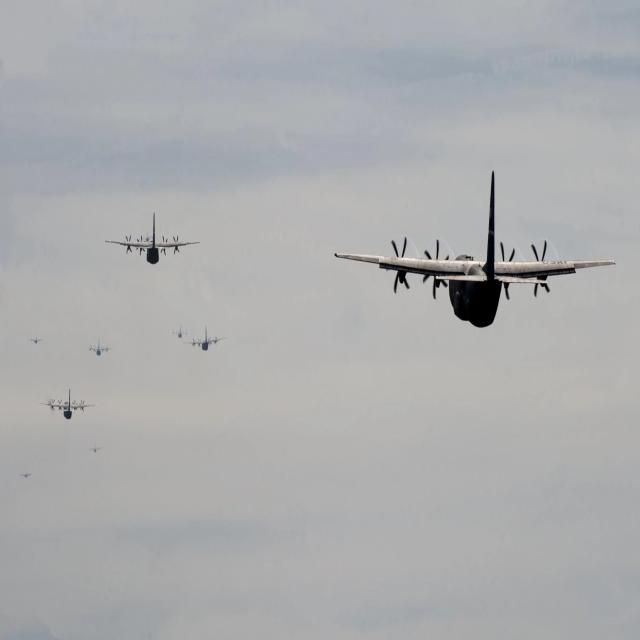MIL_Plane: (334, 172, 615, 326), (105, 212, 200, 264), (38, 68, 97, 100), (83, 339, 110, 356), (199, 326, 211, 351), (170, 324, 189, 338), (89, 442, 102, 454), (29, 334, 42, 344), (19, 470, 33, 479)
